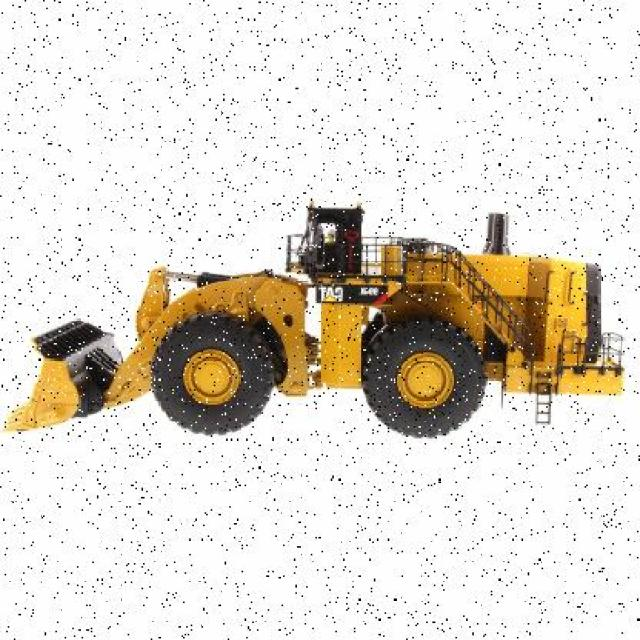buldozerpayloadergrader: (3, 191, 628, 455)
